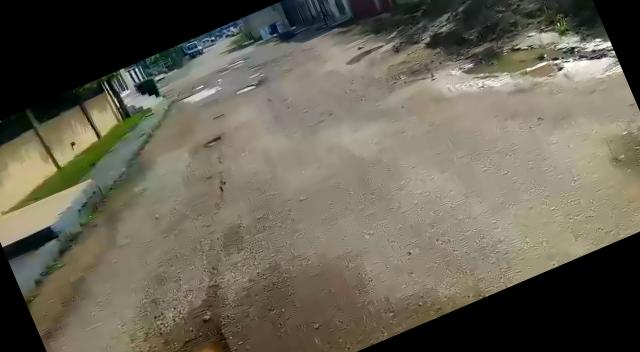pothole: (129, 324, 250, 352), (178, 82, 224, 109), (233, 78, 264, 96), (202, 135, 225, 150)
